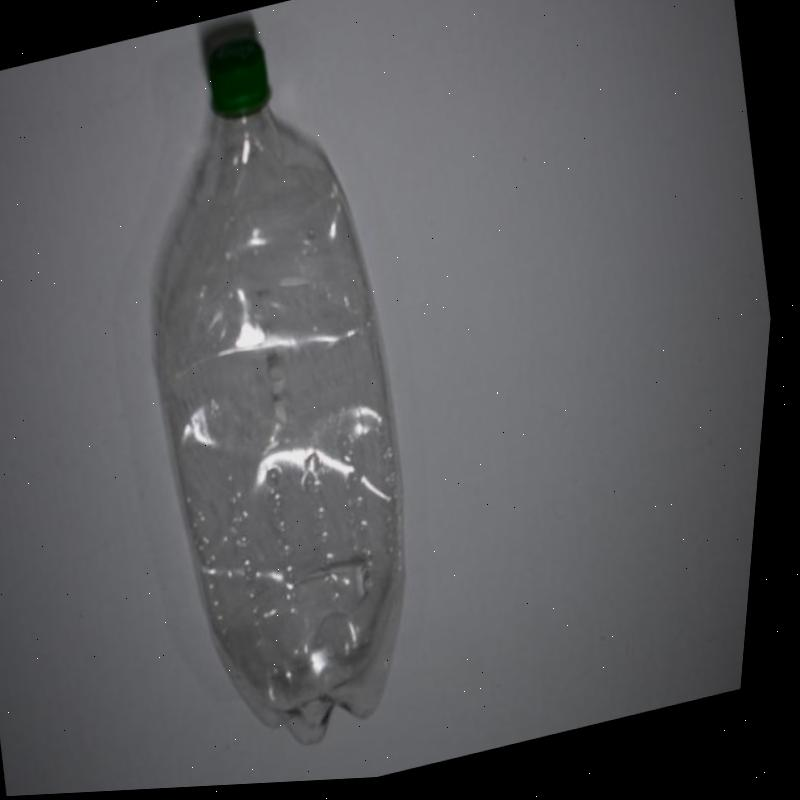botella: (75, 8, 484, 779)
